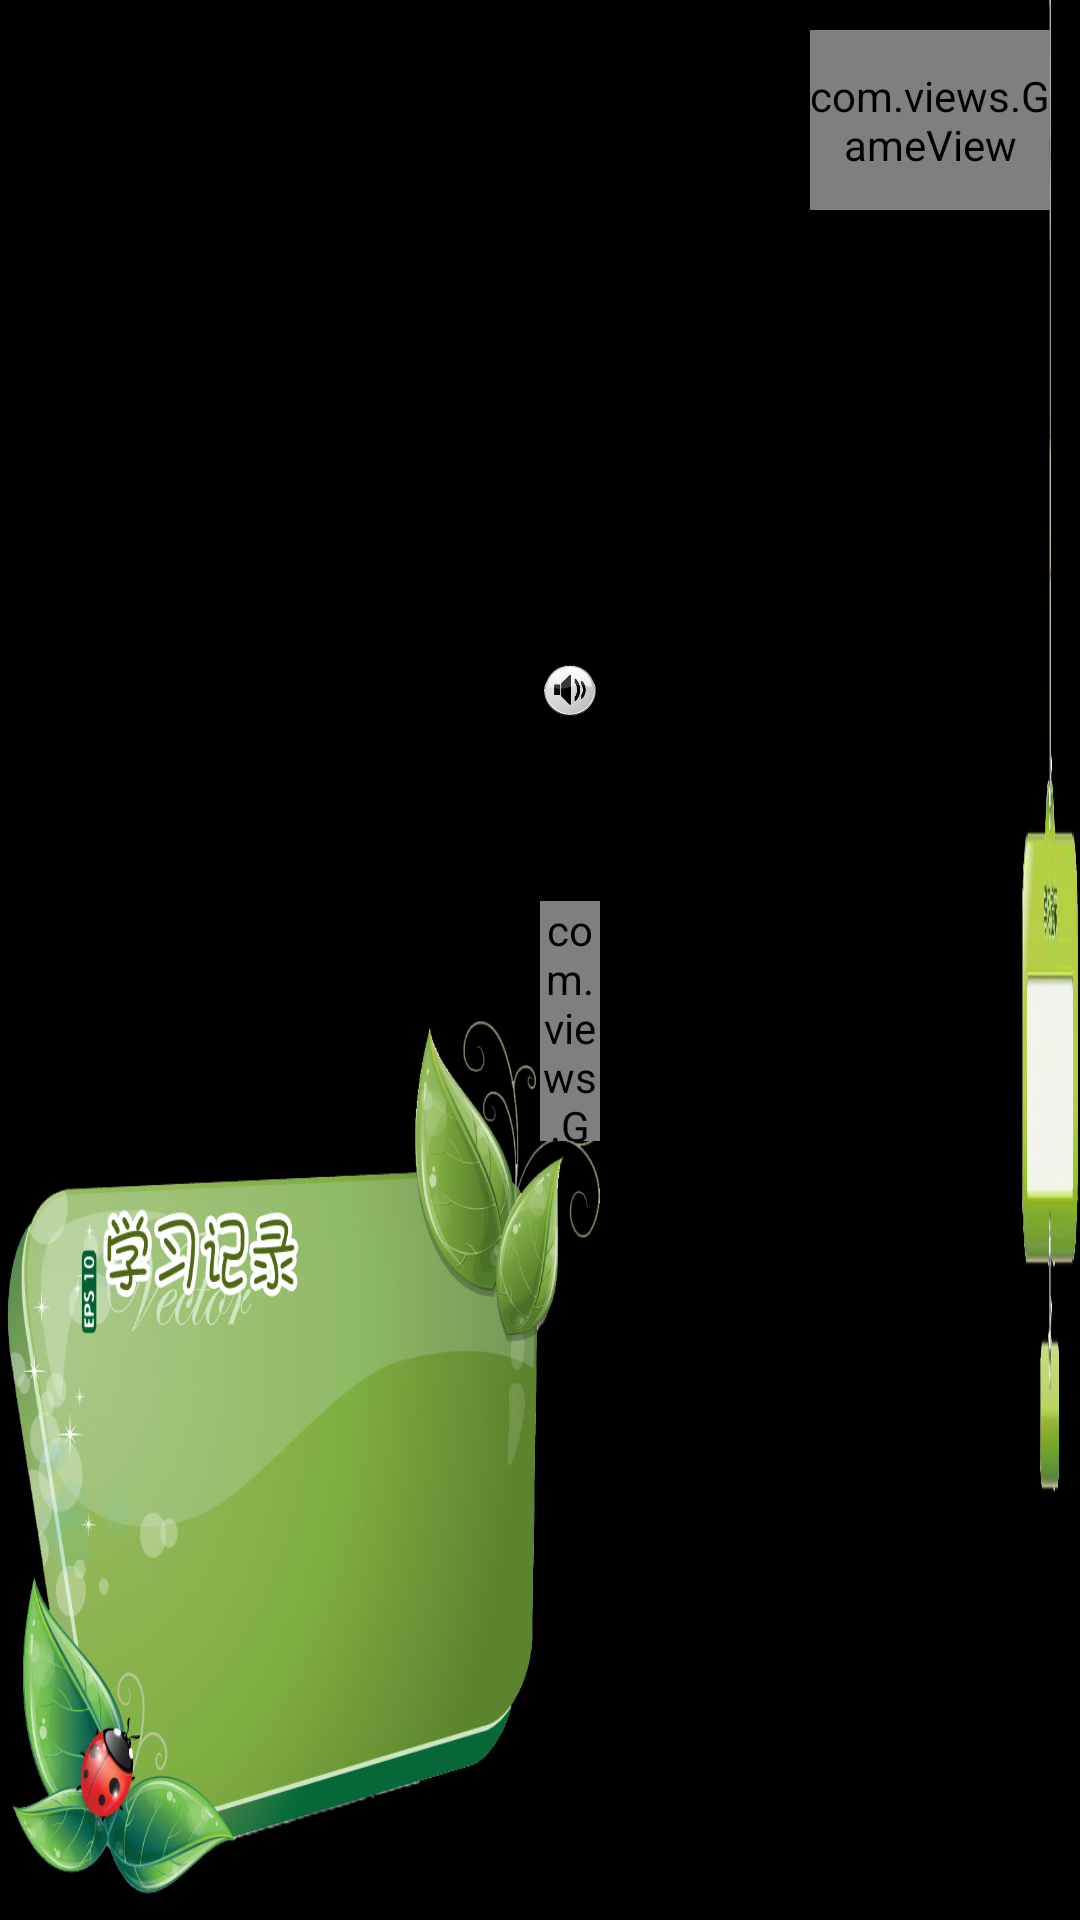

Point at icon controls on the screen. Image size 1080 × 1920, points as (x=x, y=y).
horn: (x=570, y=690)
